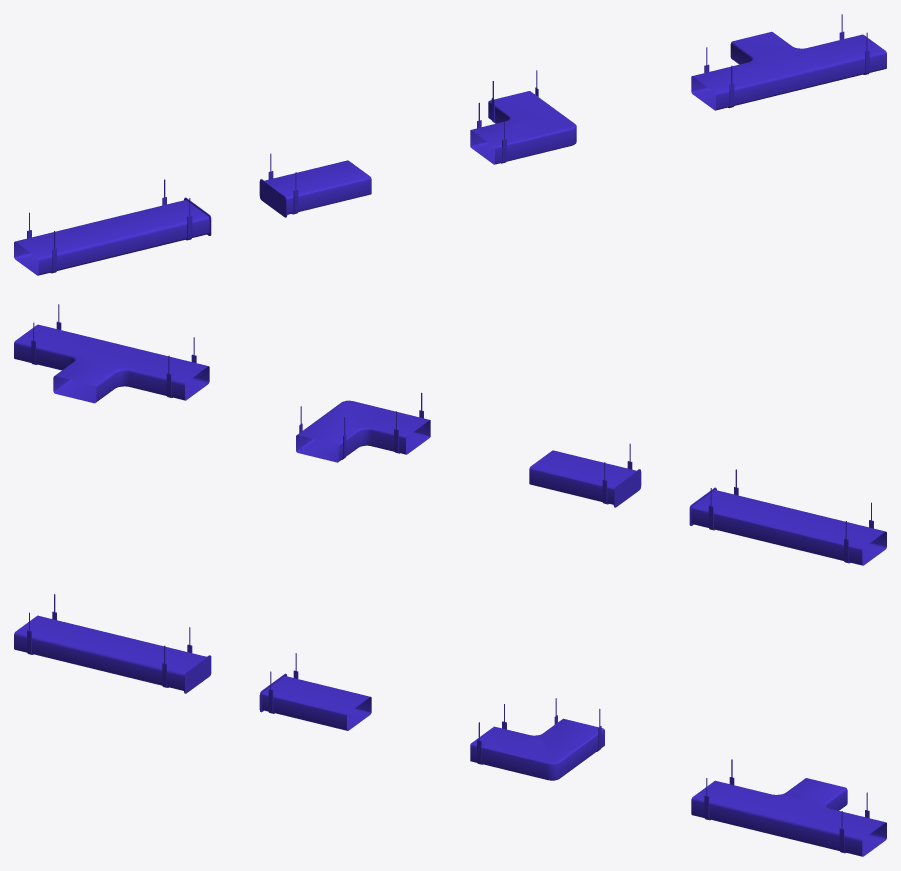
Rendered from Extract.fbx.
The picture shows the model from 3 angles, top to bottom: view 1: azimuth 30°, elevation 25°; view 2: azimuth 150°, elevation 25°; view 3: azimuth 330°, elevation 25°; orthographic projection.
Visible parts, largest first — view 1: extract_4, extract_1, extract_3, extract_2; view 2: extract_4, extract_1, extract_3, extract_2; view 3: extract_4, extract_1, extract_3, extract_2.
Part boxes in pixels (x1=…): extract_4: x1=691, y1=14, x2=886, y2=110; extract_1: x1=14, y1=179, x2=211, y2=275; extract_3: x1=470, y1=70, x2=576, y2=164; extract_2: x1=259, y1=153, x2=371, y2=217; extract_4: x1=14, y1=304, x2=209, y2=403; extract_1: x1=689, y1=469, x2=886, y2=565; extract_3: x1=296, y1=392, x2=430, y2=462; extract_2: x1=529, y1=443, x2=641, y2=507; extract_4: x1=691, y1=759, x2=886, y2=856; extract_1: x1=14, y1=594, x2=211, y2=693; extract_3: x1=470, y1=698, x2=604, y2=780; extract_2: x1=259, y1=653, x2=371, y2=730.
Size of the model in its own units: 992 by 48.47 by 102.
